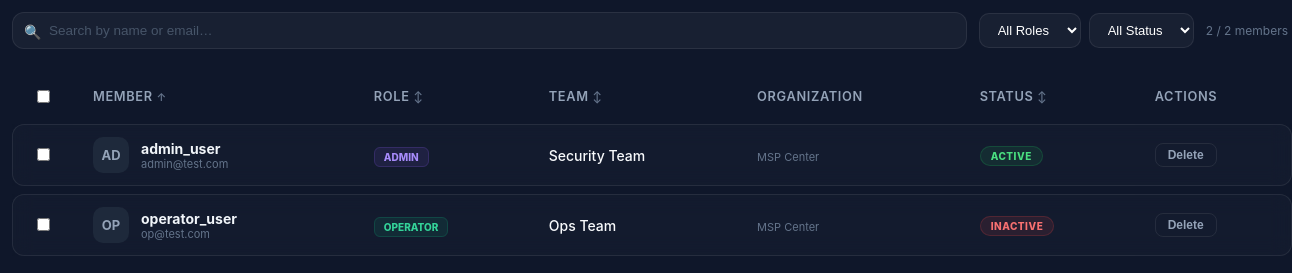
OperatorTable › should filter by status
Select "Active" in the 2nd dropdown showing "All Status" at [1141, 30], box x1=1089 y1=13 x2=1194 y2=48
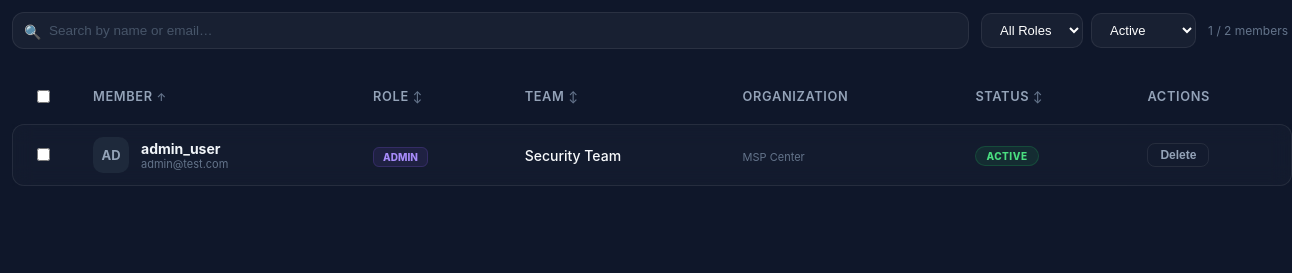
Expected: the text "admin_user" is shown, x1=141 y1=140 x2=228 y2=156
Expected: the text "operator_user" is gone
